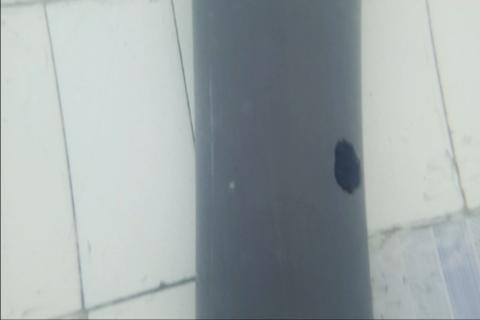kebocoran: (331, 136, 364, 197)
